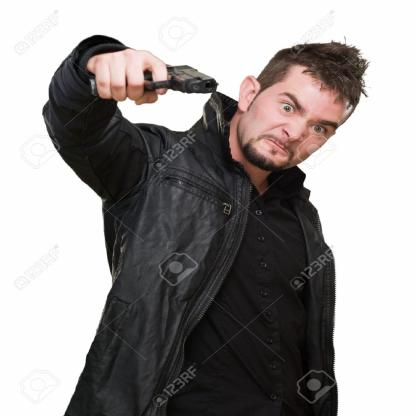pistol: (86, 64, 218, 95)
